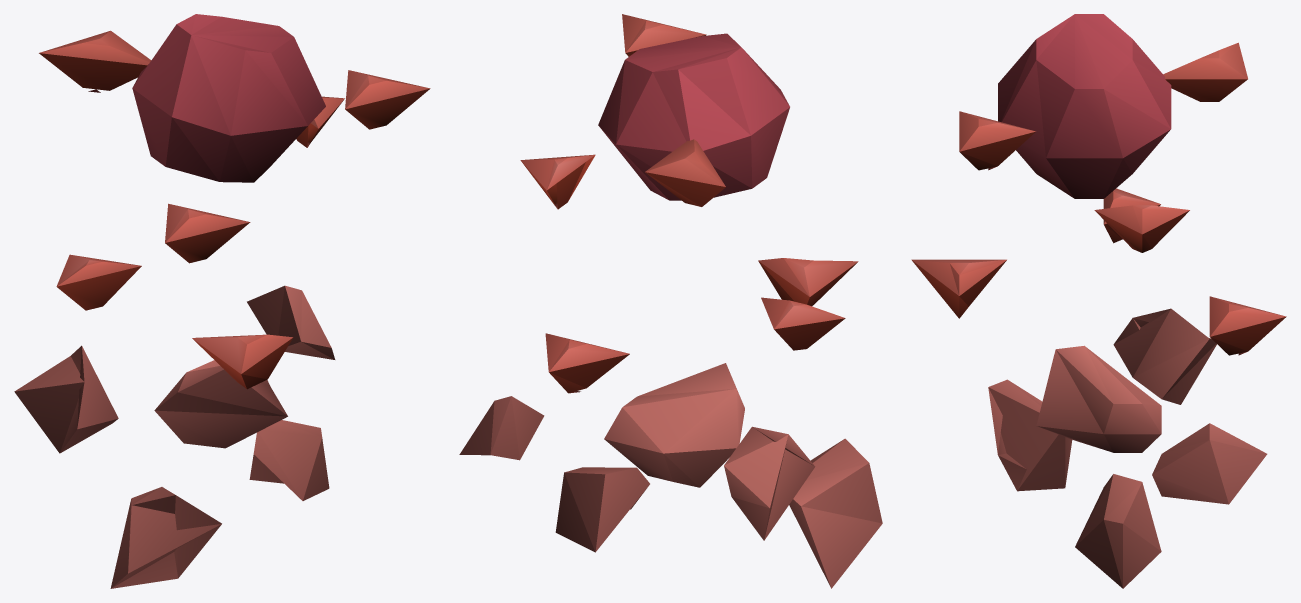
File: blood_barrage_hit.glb
3 renders of one model, left to right at view 1: azimuth 30°, elevation 25°; view 2: azimuth 150°, elevation 25°; view 3: azimuth 270°, elevation 25°, orthographic. The views are drawn at different scales.
Parts seen in each view (by area): view 1: Blood barrage hit spotanim; view 2: Blood barrage hit spotanim; view 3: Blood barrage hit spotanim.
Boxes of the visible parts, box(x1,y1,x2,y2) form: Blood barrage hit spotanim: box(14, 14, 430, 588); Blood barrage hit spotanim: box(459, 14, 882, 588); Blood barrage hit spotanim: box(911, 14, 1286, 588).
Size of the model in its own units: 38 by 59 by 39.
